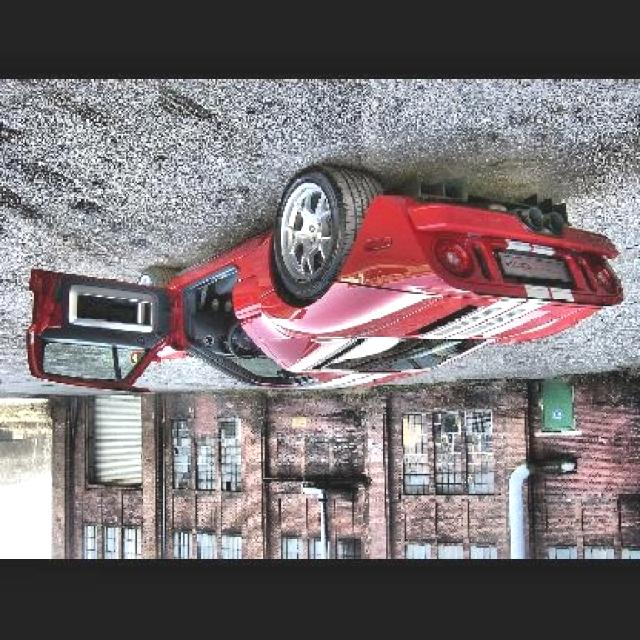red: (77, 171, 618, 418)
